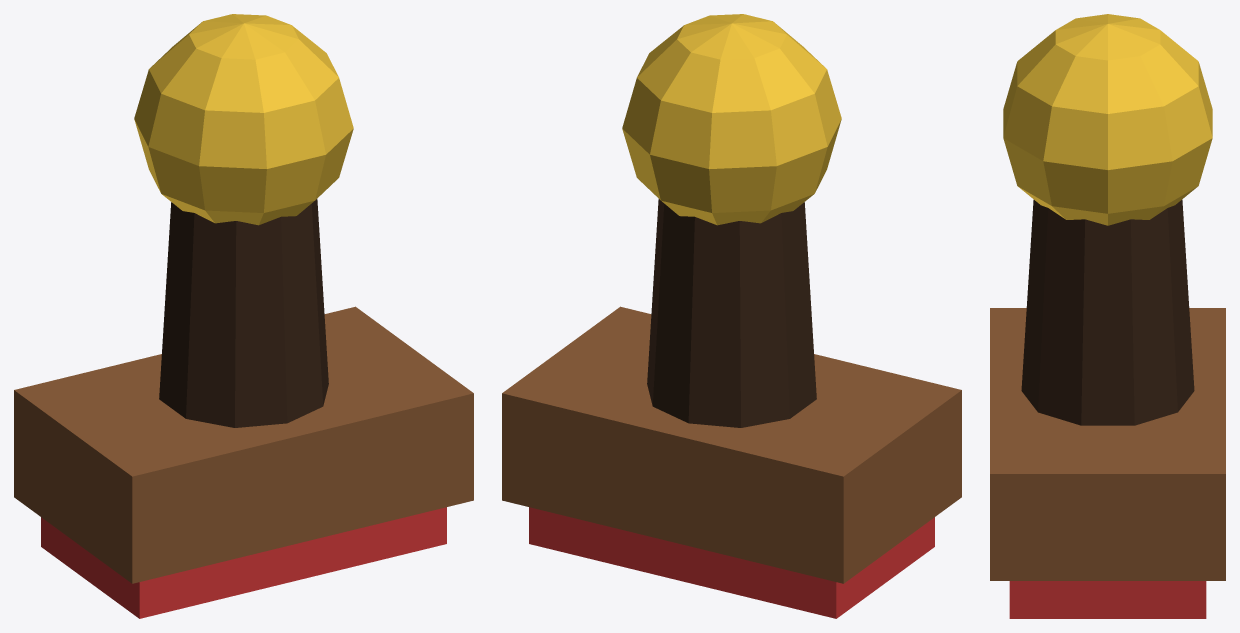
File: vip_stamp.glb
The picture shows the model from 3 angles, left to right: view 1: azimuth 30°, elevation 25°; view 2: azimuth 150°, elevation 25°; view 3: azimuth 270°, elevation 25°; orthographic projection.
Parts seen in each view (by area): view 1: base_stamp_wood, knob_stamp_knob, handle_stamp_handle, rubber_stamp_rubber; view 2: base_stamp_wood, knob_stamp_knob, handle_stamp_handle, rubber_stamp_rubber; view 3: base_stamp_wood, knob_stamp_knob, handle_stamp_handle, rubber_stamp_rubber.
Boxes of the visible parts, bbox=[...] form: base_stamp_wood: bbox=[14, 306, 473, 583]; knob_stamp_knob: bbox=[134, 14, 353, 225]; handle_stamp_handle: bbox=[159, 199, 328, 427]; rubber_stamp_rubber: bbox=[41, 507, 446, 618]; base_stamp_wood: bbox=[502, 306, 961, 583]; knob_stamp_knob: bbox=[622, 14, 841, 225]; handle_stamp_handle: bbox=[647, 199, 816, 427]; rubber_stamp_rubber: bbox=[529, 507, 934, 618]; base_stamp_wood: bbox=[990, 308, 1225, 580]; knob_stamp_knob: bbox=[1003, 14, 1212, 225]; handle_stamp_handle: bbox=[1021, 200, 1194, 425]; rubber_stamp_rubber: bbox=[1009, 581, 1206, 618].
Bounding box in the file's own units: 0.1 × 0.146 × 0.06.
